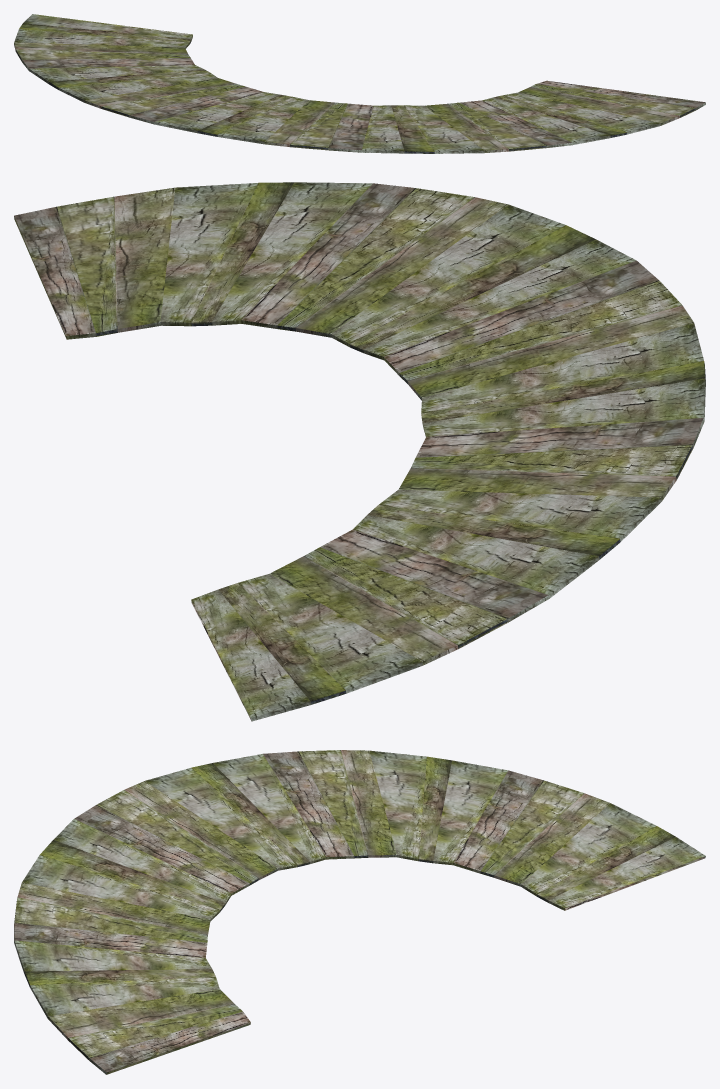
The model's file is gameobject_28_colider.fbx.
3 renders of one model, top to bottom at view 1: azimuth 30°, elevation 25°; view 2: azimuth 150°, elevation 25°; view 3: azimuth 270°, elevation 25°, orthographic. The views are drawn at different scales.
Parts seen in each view (by area): view 1: GameObject__28_; view 2: GameObject__28_; view 3: GameObject__28_.
Part boxes in pixels (left/top/right/bottom): GameObject__28_: left=14, top=14, right=705, bottom=153; GameObject__28_: left=14, top=182, right=705, bottom=721; GameObject__28_: left=14, top=750, right=705, bottom=1074.
Bounding box in the file's own units: 690 × 79.21 × 726.
